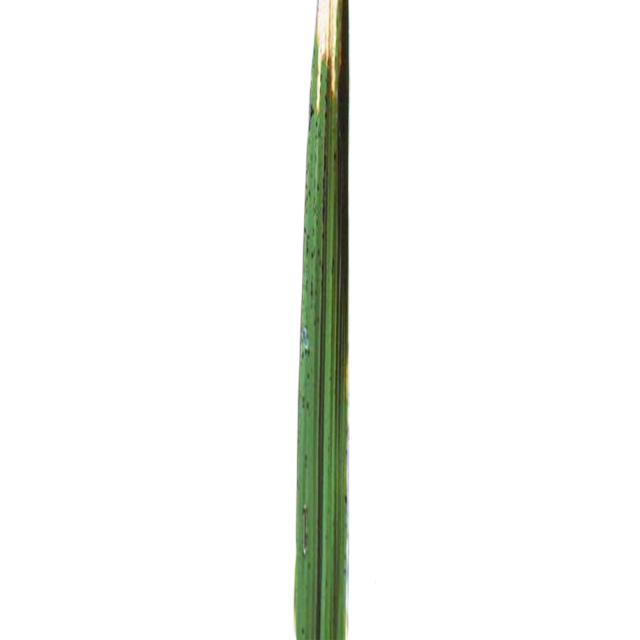Leaf scald: (231, 0, 440, 640)
